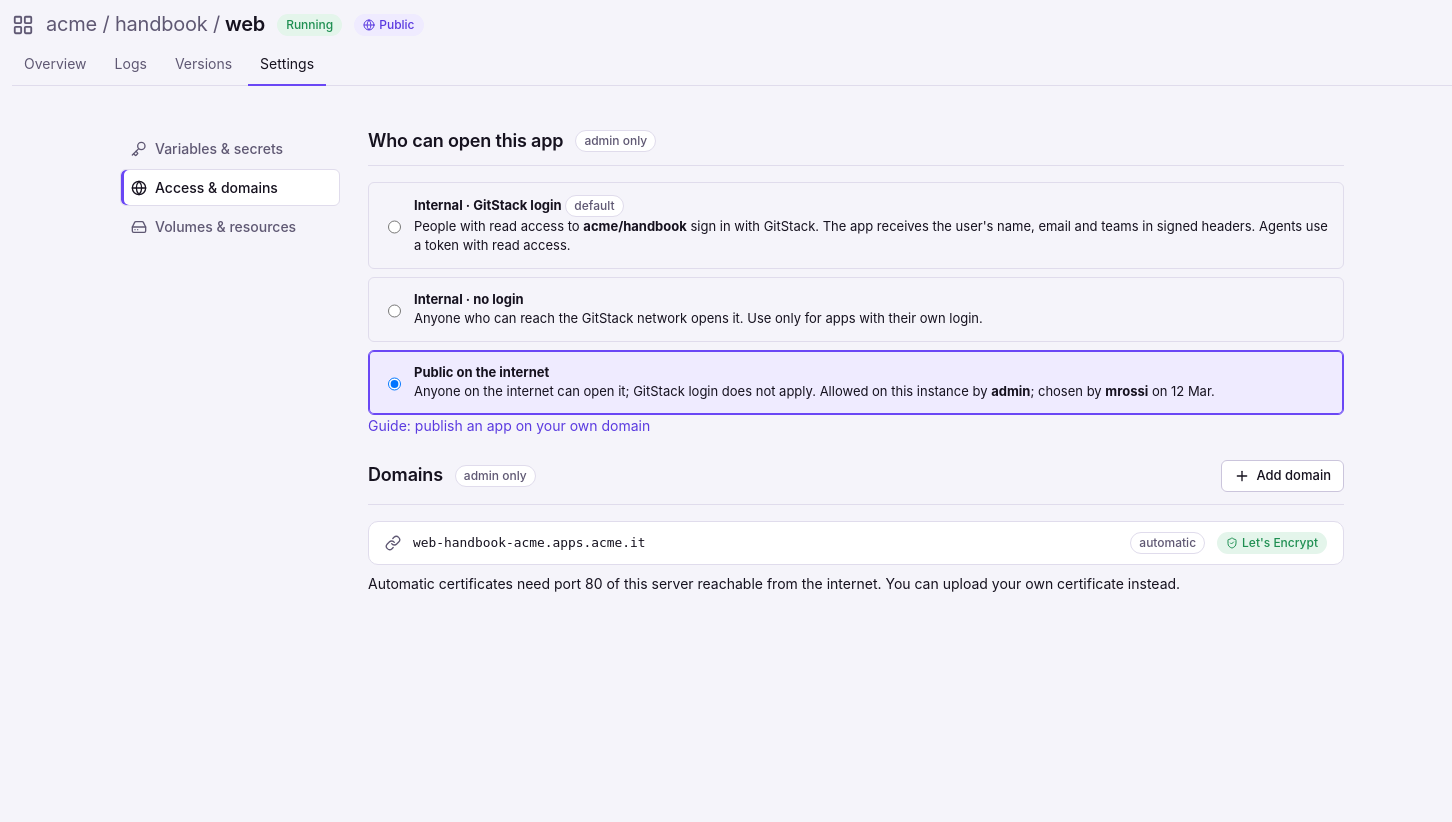
Test: Domini propri (H7, variante pubblica) › admin aggiunge un dominio e vede il record da creare
Click the button "Add domain".
click(1283, 476)  # box [1221,460,1344,492]
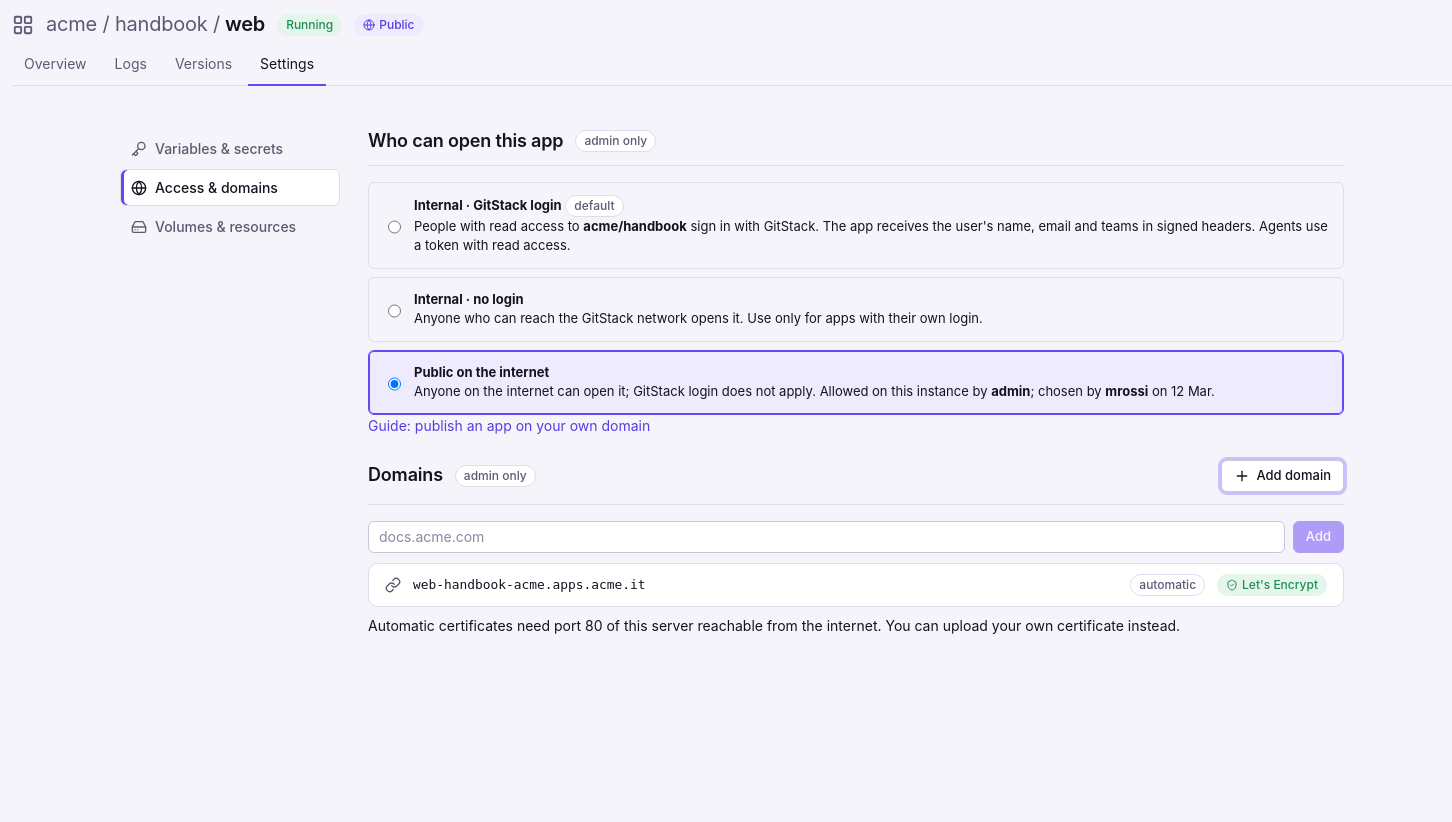
Type "Docs.Acme.com" into the field named "Domain name".
click(826, 536); type("Docs.Acme.com")  # box [368,520,1285,552]
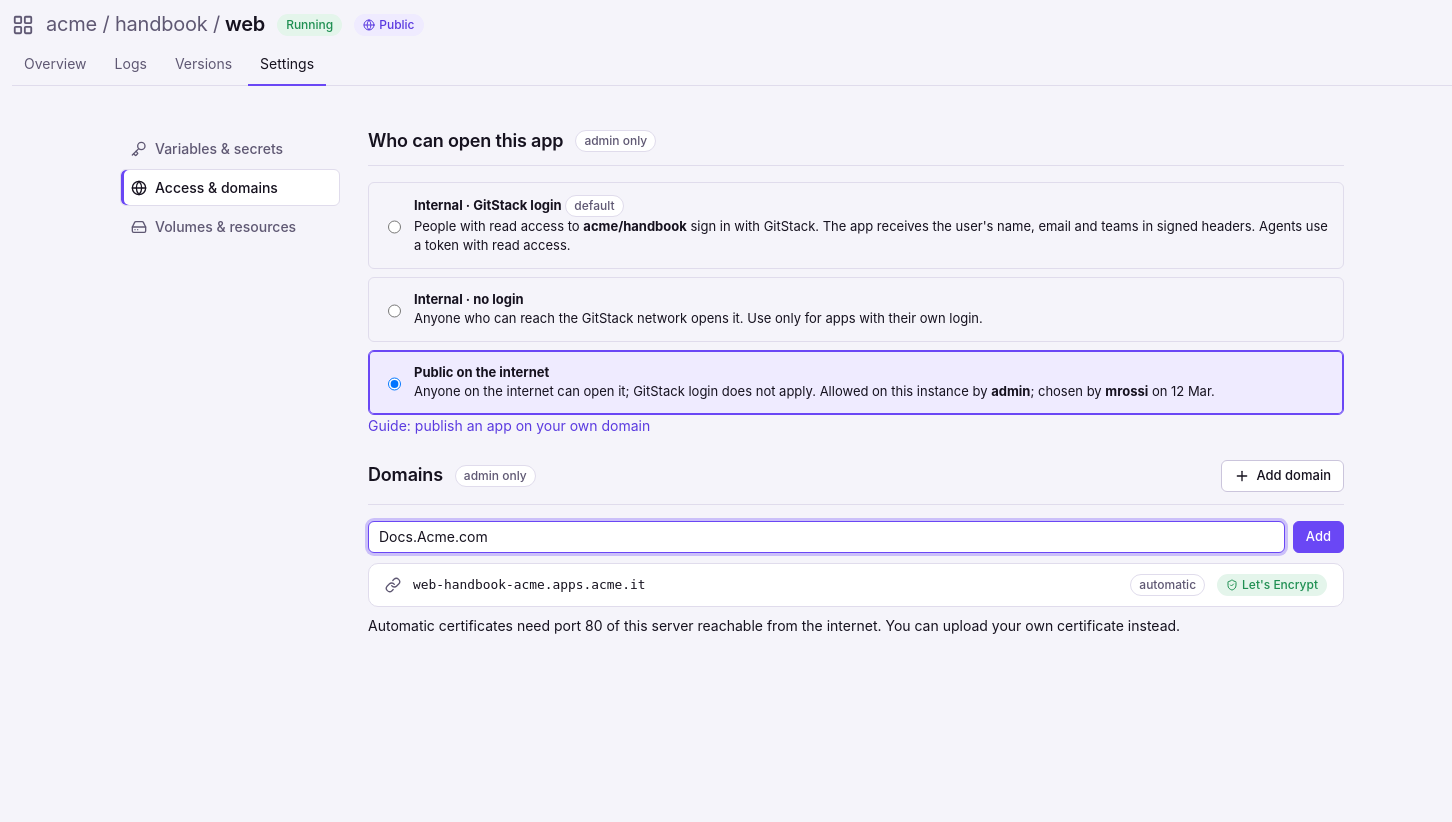
Click the button "Add".
click(1318, 536)  # box [1293,520,1344,552]
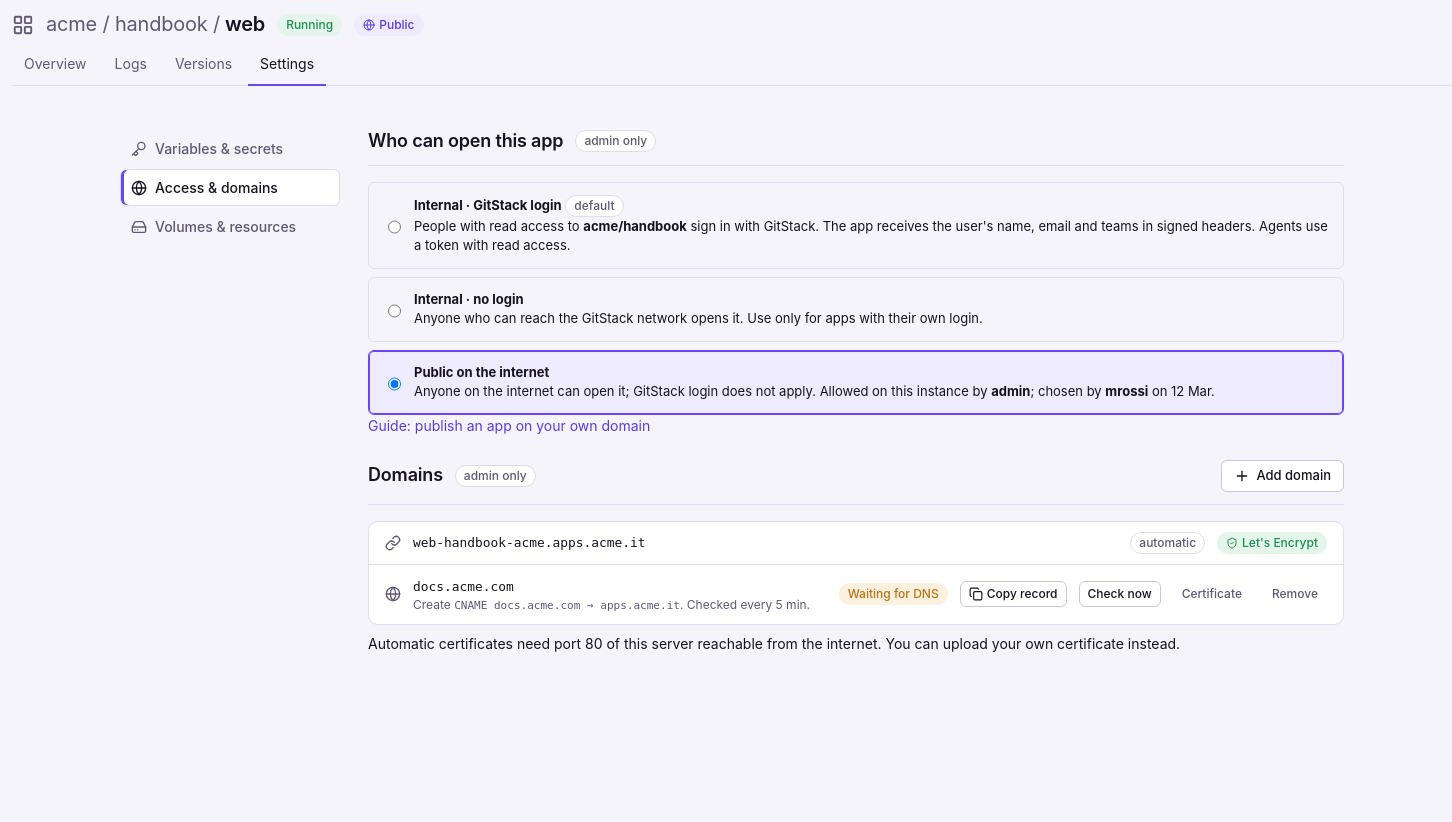
Expected: the text "CNAME docs.acme.com → apps.acme.it" is shown, [454,599,680,612]
